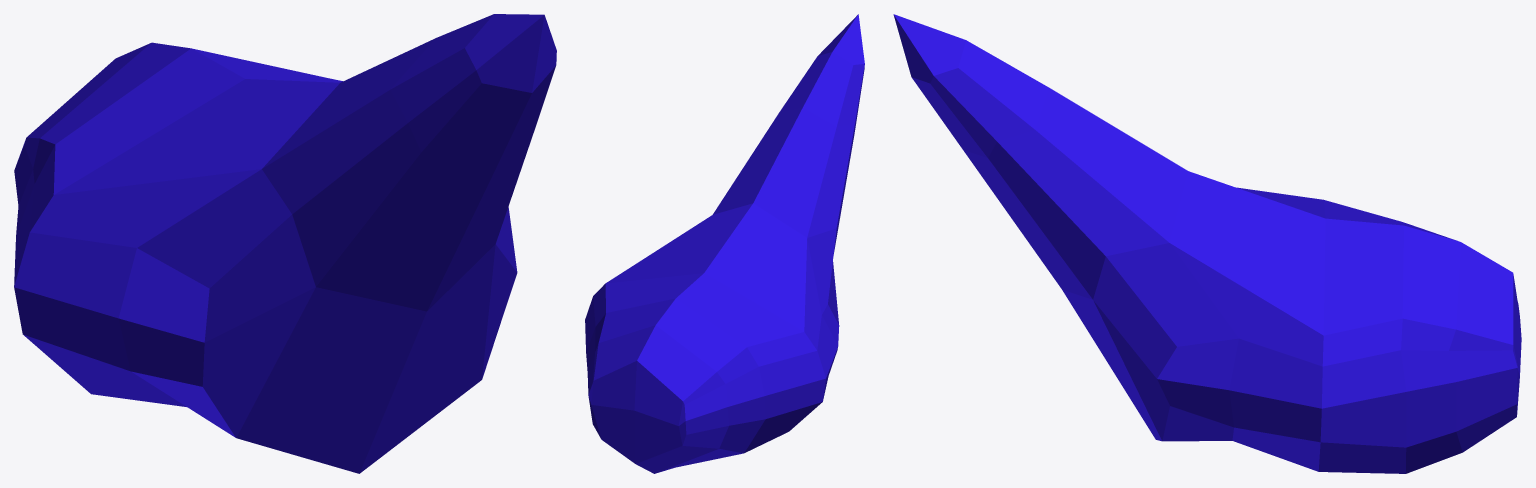
The model's file is Shell_A.glb.
The picture shows the model from 3 angles, left to right: view 1: azimuth 30°, elevation 25°; view 2: azimuth 150°, elevation 25°; view 3: azimuth 270°, elevation 25°; orthographic projection. The views are drawn at different scales.
Visible parts, largest first — view 1: Shell A; view 2: Shell A; view 3: Shell A.
Boxes of the visible parts, x1,y1,x2,y2 form: Shell A: [14, 14, 556, 473]; Shell A: [585, 14, 864, 473]; Shell A: [893, 14, 1521, 473].
Bounding box in the file's own units: 2.44 × 3.09 × 3.94.
